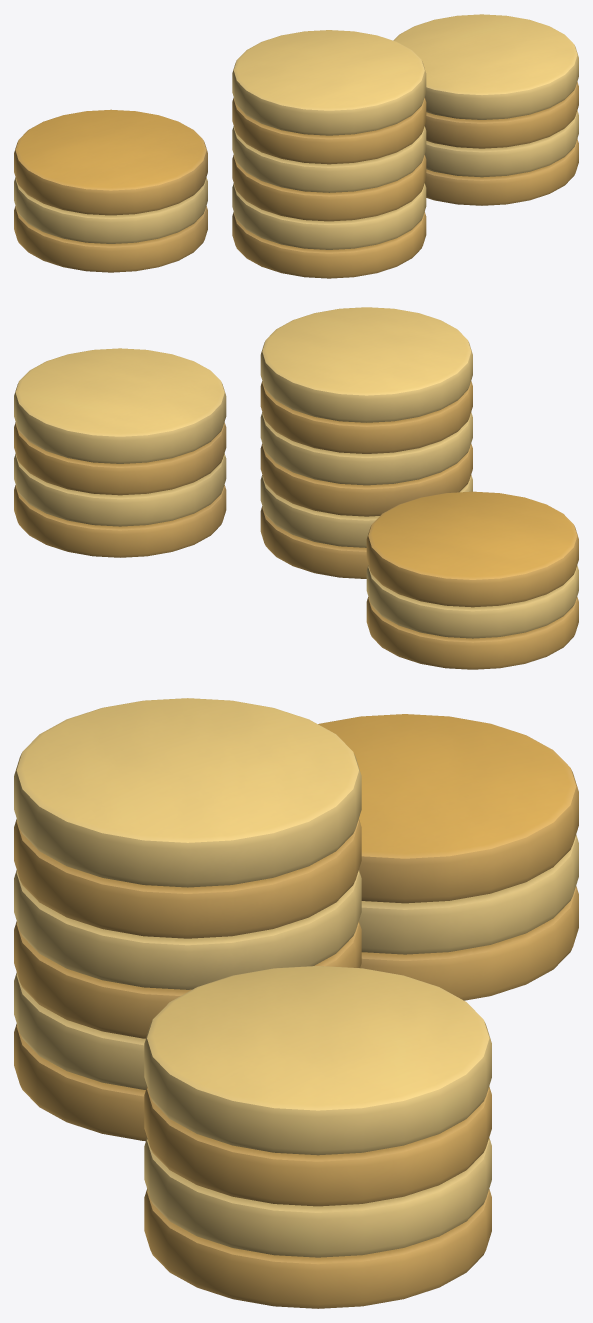
The model's file is CoinStack.fbx.
The picture shows the model from 3 angles, top to bottom: view 1: azimuth 30°, elevation 25°; view 2: azimuth 150°, elevation 25°; view 3: azimuth 270°, elevation 25°; orthographic projection. The views are drawn at different scales.
Visible parts, largest first — view 1: CoinStack; view 2: CoinStack; view 3: CoinStack.
Part boxes in pixels (<box>): CoinStack: <box>14,14,578,278</box>; CoinStack: <box>14,307,578,669</box>; CoinStack: <box>14,698,578,1308</box>.
Bounding box in the file's own units: 98 × 31 × 52.
